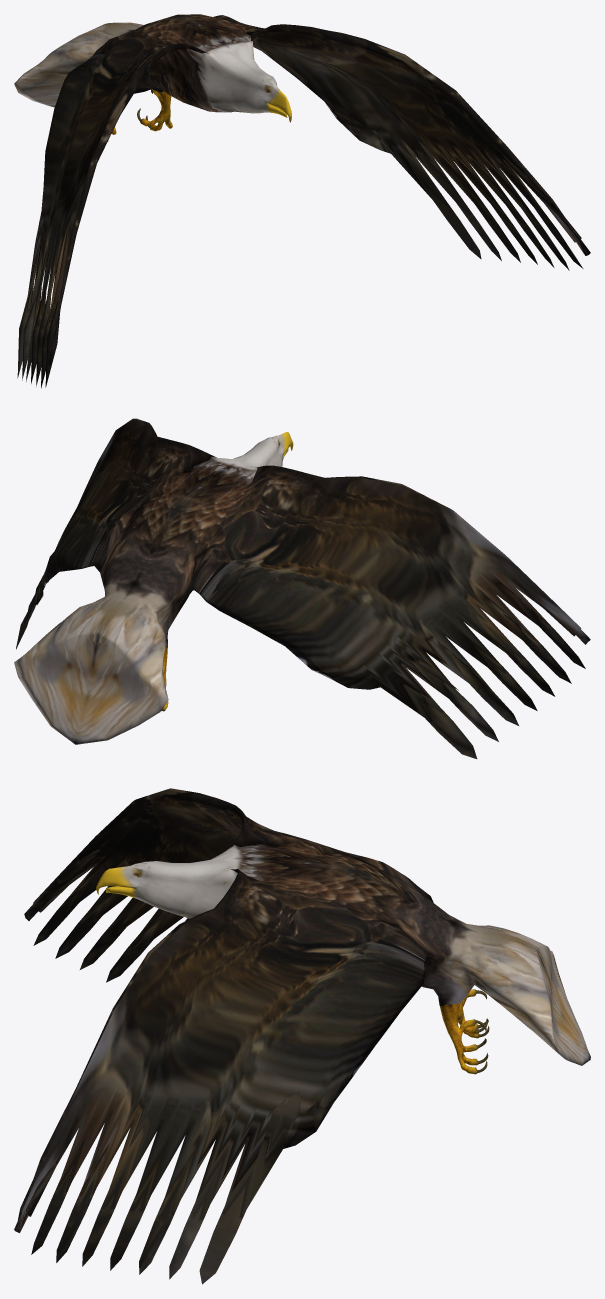
The model's file is Eagle-original_000099.obj.
The picture shows the model from 3 angles, top to bottom: view 1: azimuth 30°, elevation 25°; view 2: azimuth 150°, elevation 25°; view 3: azimuth 270°, elevation 25°; orthographic projection. The views are drawn at different scales.
Parts seen in each view (by area): view 1: Flugel_Plane.003; view 2: Flugel_Plane.003; view 3: Flugel_Plane.003.
Part boxes in pixels (<box>): Flugel_Plane.003: <box>14,14,590,388</box>; Flugel_Plane.003: <box>14,418,590,758</box>; Flugel_Plane.003: <box>14,788,590,1284</box>.
Size of the model in its own units: 7.99 by 3.89 by 6.56.
1 material, 1 textured.
